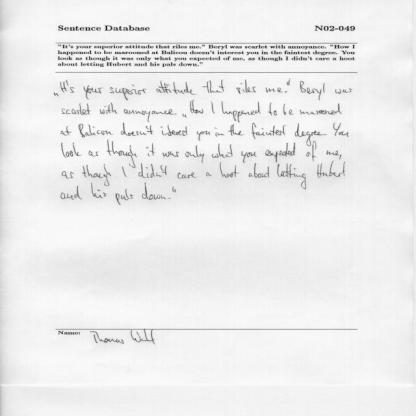Handwritten text: (52, 72, 357, 102), (42, 165, 355, 189), (53, 99, 352, 124), (48, 140, 348, 160), (46, 122, 352, 140), (45, 186, 172, 210)
